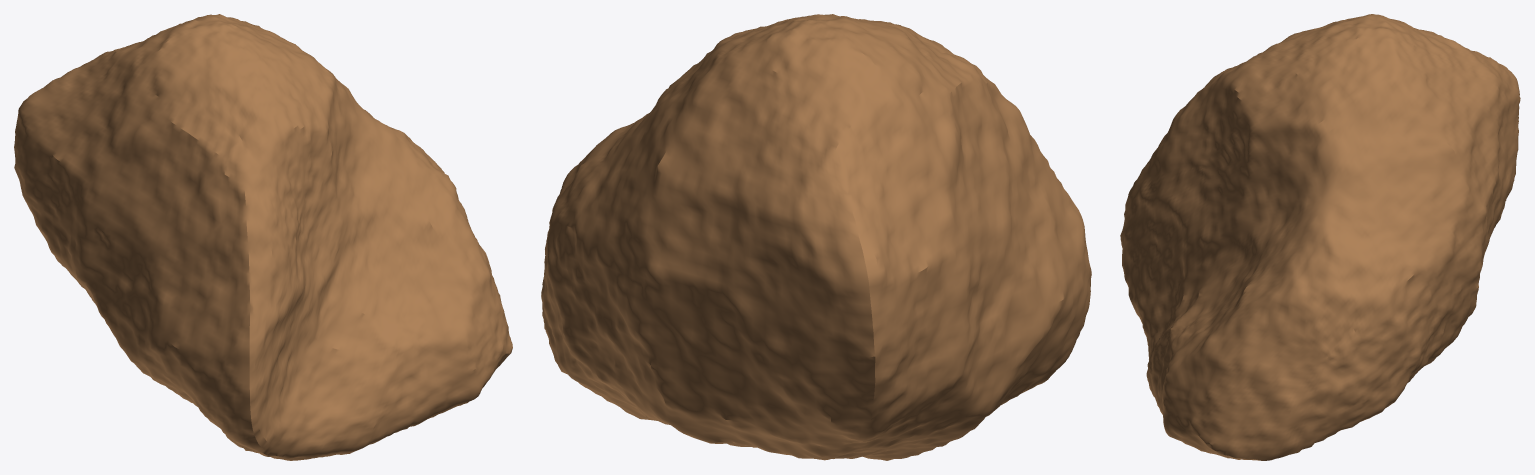
The model's file is asteroid3.glb.
The picture shows the model from 3 angles, left to right: view 1: azimuth 30°, elevation 25°; view 2: azimuth 150°, elevation 25°; view 3: azimuth 270°, elevation 25°; orthographic projection. The views are drawn at different scales.
Parts seen in each view (by area): view 1: rock; view 2: rock; view 3: rock.
Boxes of the visible parts, x1=… form: rock: x1=14, y1=14, x2=512, y2=460; rock: x1=541, y1=14, x2=1091, y2=460; rock: x1=1120, y1=14, x2=1520, y2=460.
Bounding box in the file's own units: 2.71 × 2.64 × 2.65.
